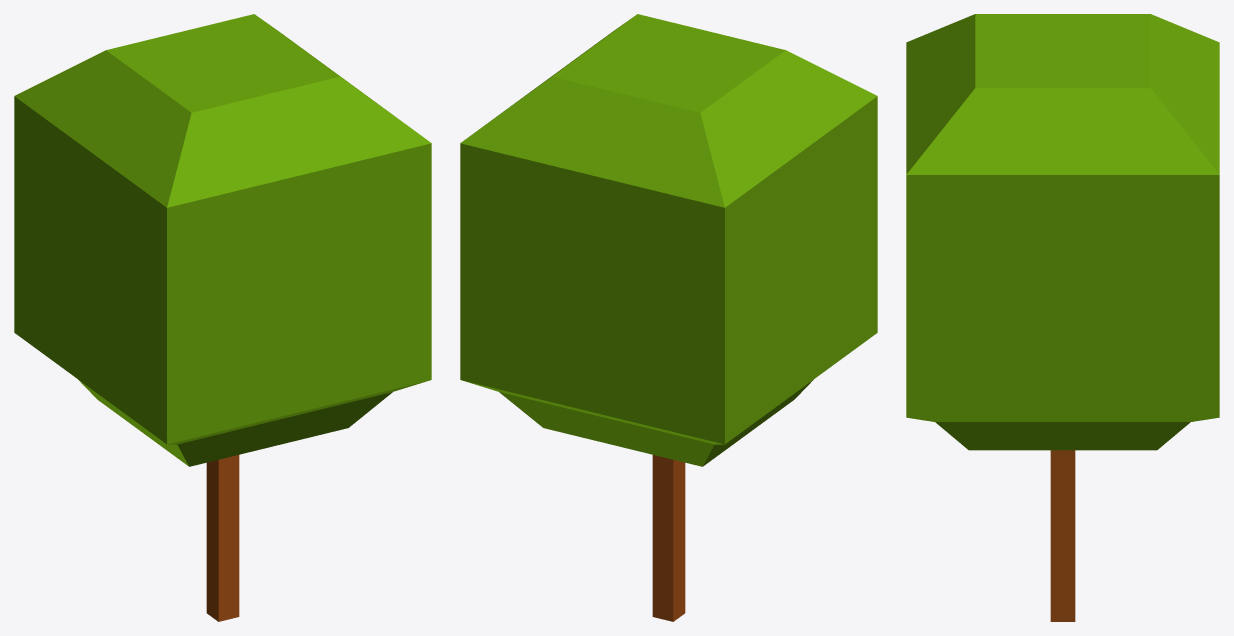
File: Tree_31_Spring.fbx
3 renders of one model, left to right at view 1: azimuth 30°, elevation 25°; view 2: azimuth 150°, elevation 25°; view 3: azimuth 270°, elevation 25°, orthographic. The views are drawn at different scales.
Parts seen in each view (by area): view 1: Tree_31_Spring; view 2: Tree_31_Spring; view 3: Tree_31_Spring.
Boxes of the visible parts, x1,y1,x2,y2 form: Tree_31_Spring: [14, 14, 431, 621]; Tree_31_Spring: [460, 14, 877, 621]; Tree_31_Spring: [906, 14, 1219, 621].
Bounding box in the file's own units: 180 × 359 × 180.
